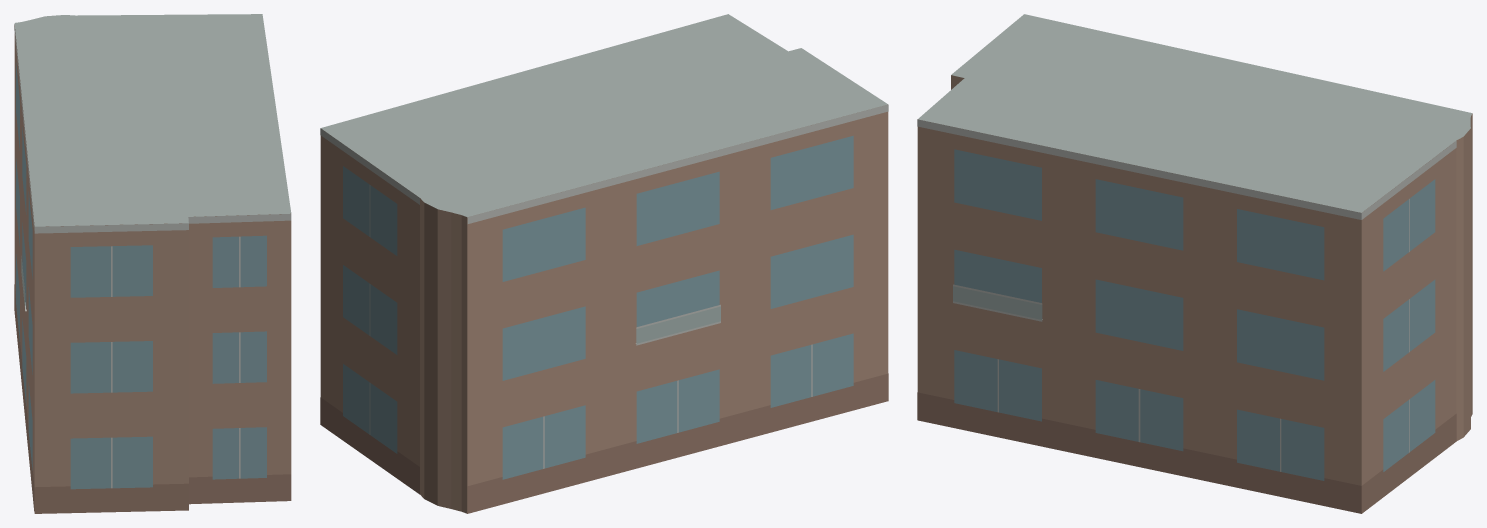
Rendered from survey-upis-32899317.glb.
The picture shows the model from 3 angles, left to right: view 1: azimuth 30°, elevation 25°; view 2: azimuth 150°, elevation 25°; view 3: azimuth 270°, elevation 25°; orthographic projection. The views are drawn at different scales.
Visible parts, largest first — view 1: survey-upis-32899317.tmp; view 2: survey-upis-32899317.tmp; view 3: survey-upis-32899317.tmp.
Part boxes in pixels (left/top/right/bottom): survey-upis-32899317.tmp: left=14, top=14, right=291, bottom=513; survey-upis-32899317.tmp: left=320, top=14, right=888, bottom=513; survey-upis-32899317.tmp: left=917, top=14, right=1472, bottom=513.
Bounding box in the file's own units: 14.46 × 10.2 × 17.05.
